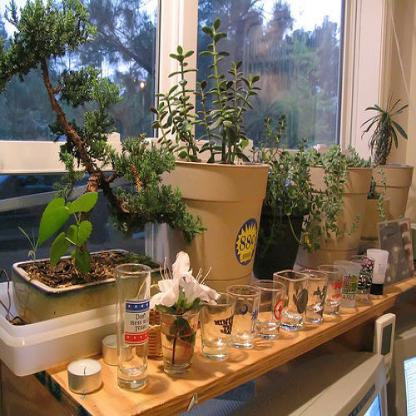pottedplant: (0, 0, 208, 325), (149, 18, 269, 304), (250, 114, 322, 280), (288, 136, 373, 268), (358, 88, 414, 220), (358, 173, 391, 251)
